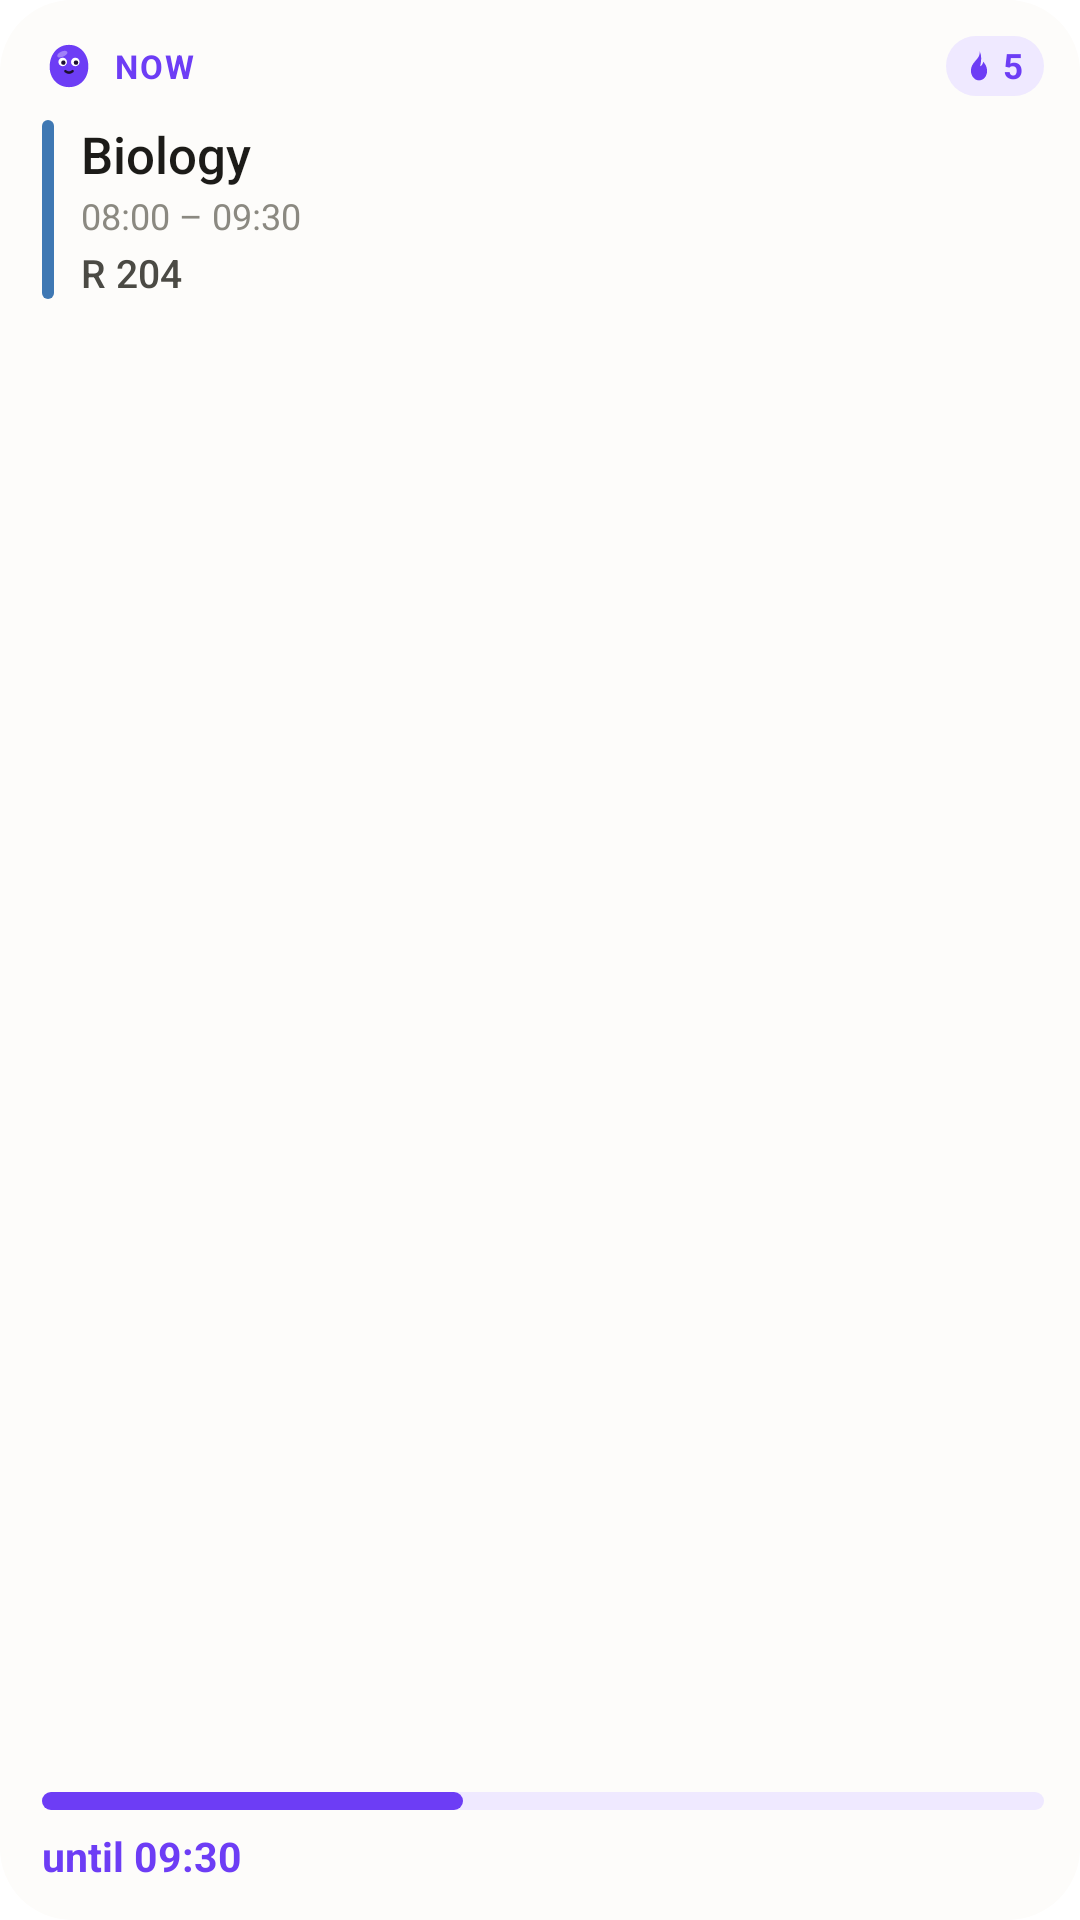

Icon bounding boxes for this 1080*1920 phone screenshot, format [x1=x1, y1=y1, x2=x2, y2=y2]:
widget blob: [x1=49, y1=44, x2=89, y2=88]
widget flame: [x1=971, y1=52, x2=987, y2=81]
